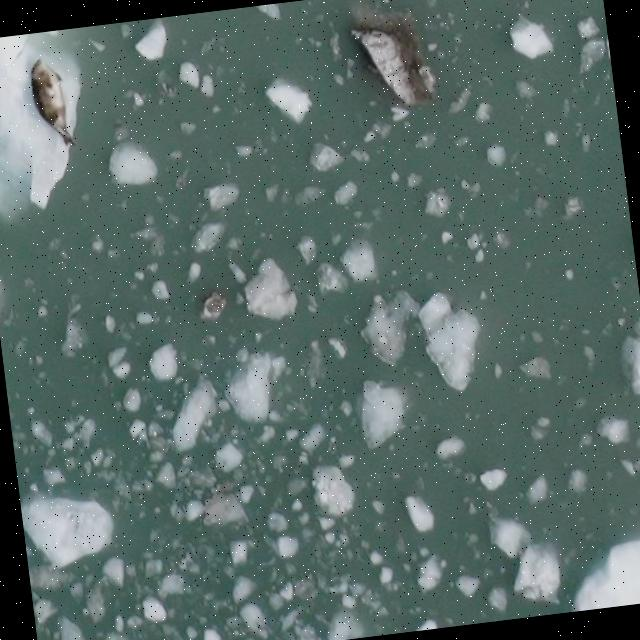seal: (29, 59, 77, 150)
